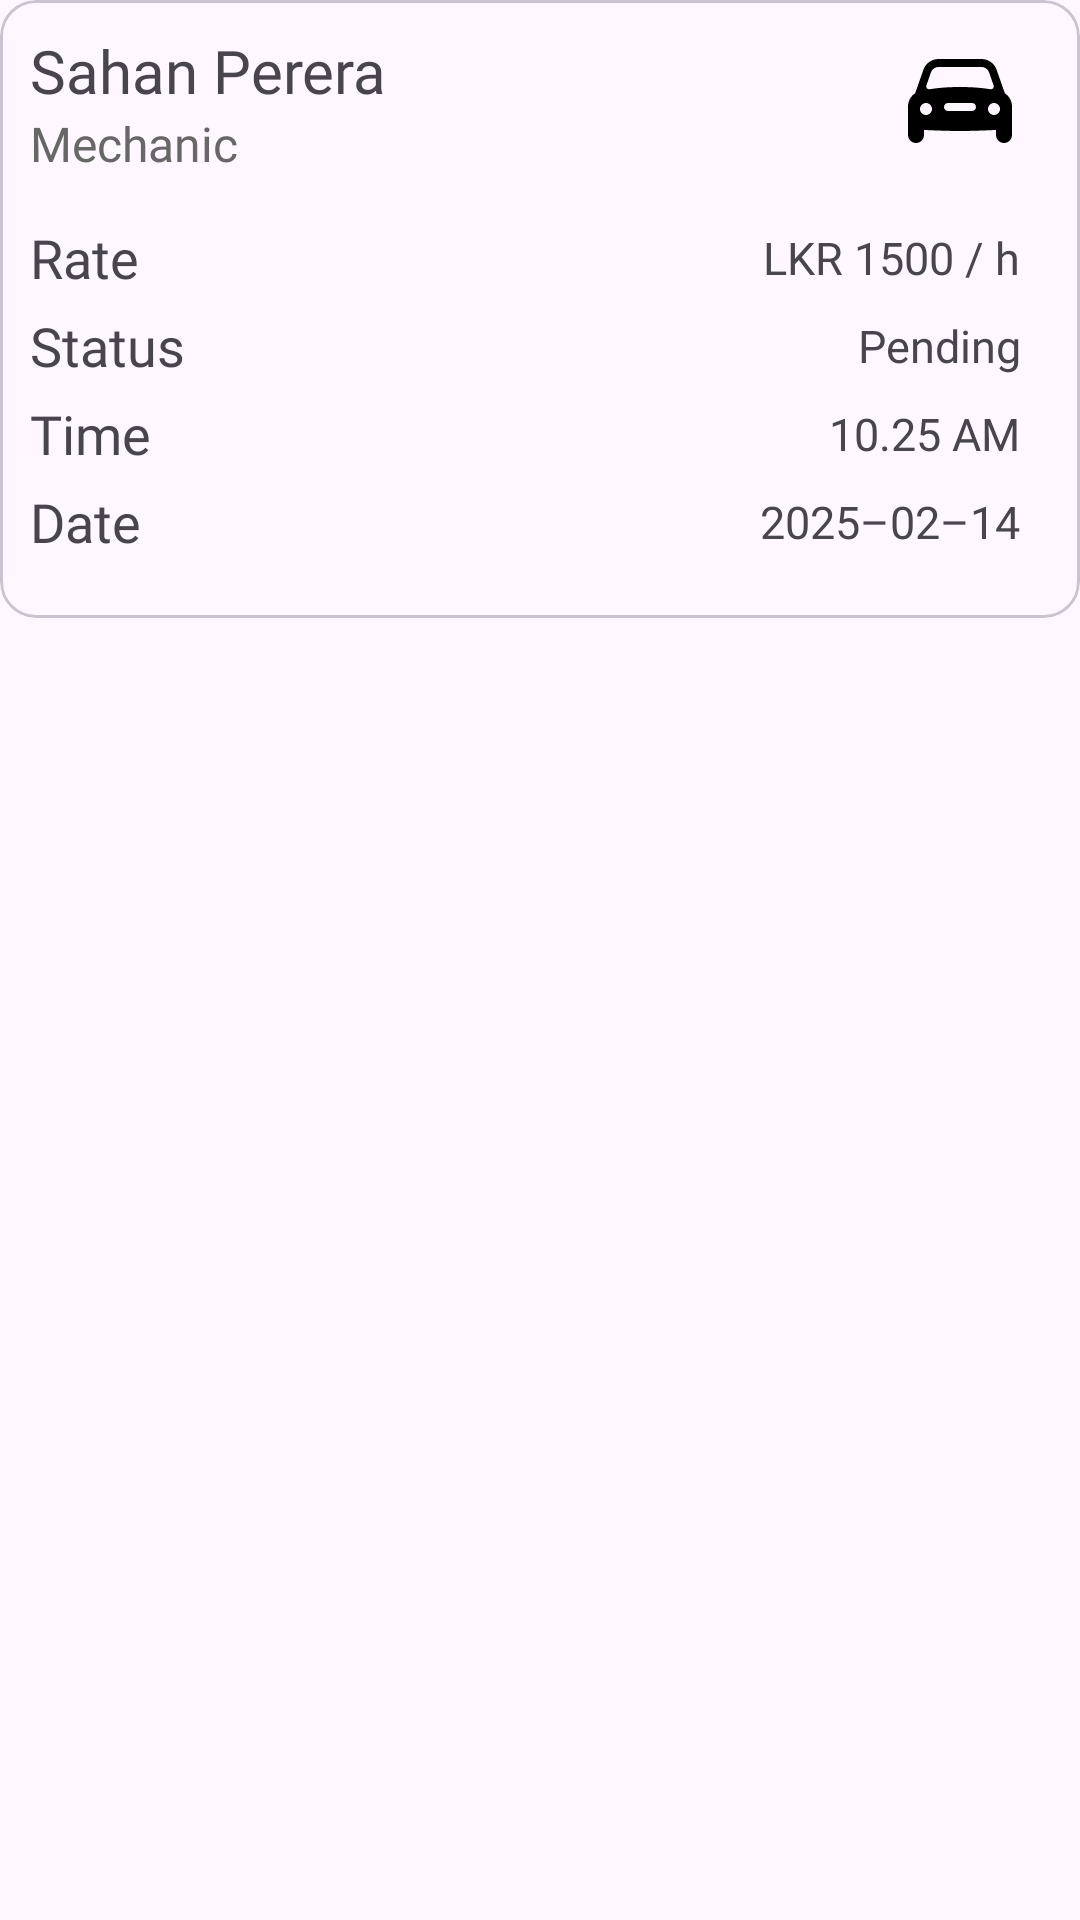

Icons on this 1080 x 1920 Android screen, each with the point to tap as point (x, y):
car: point (960, 101)
